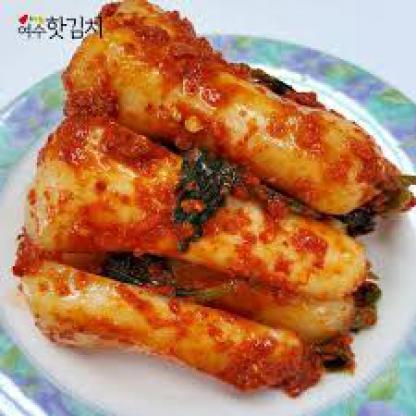chonggak Kimchi: (35, 22, 374, 390)
